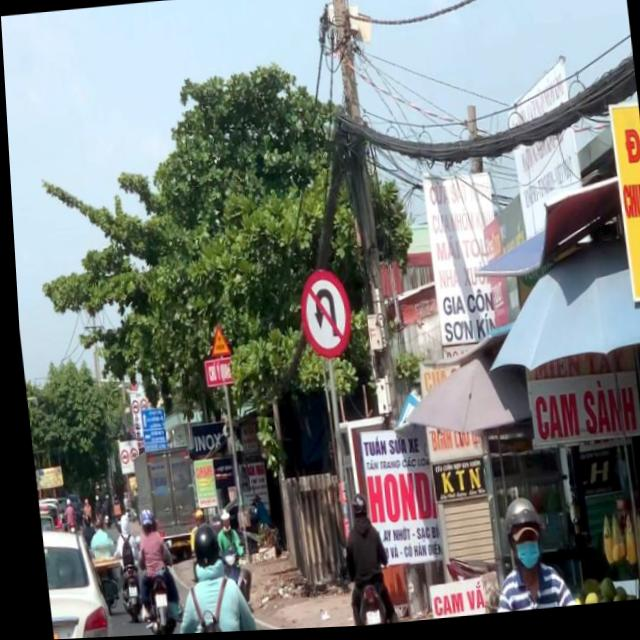Cam quay dau xe: (292, 269, 352, 366)
Di cham: (203, 326, 230, 360)
